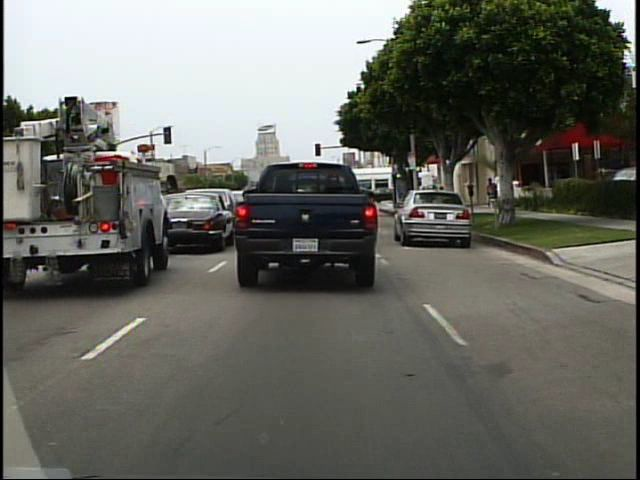person: (485, 177, 497, 208)
